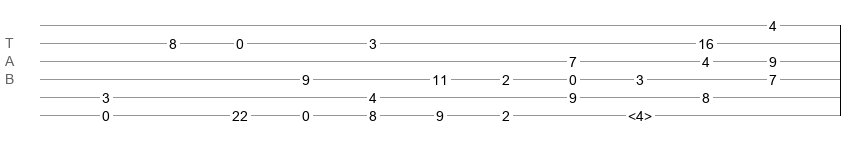0: (102, 108, 110, 118), (236, 36, 244, 46), (302, 108, 310, 118), (569, 72, 577, 82)
11: (432, 72, 448, 82)
16: (698, 36, 714, 46)
2: (502, 72, 510, 82), (502, 108, 510, 118)
22: (232, 108, 248, 118)
3: (102, 90, 110, 100), (369, 36, 377, 46), (636, 72, 644, 82)
4: (369, 90, 377, 100), (702, 54, 710, 64), (769, 18, 777, 28)
7: (569, 54, 577, 64), (769, 72, 777, 82)
8: (169, 36, 177, 46), (369, 108, 377, 118), (702, 90, 710, 100)
9: (302, 72, 310, 82), (436, 108, 444, 118), (569, 90, 577, 100), (769, 54, 777, 64)
harmonic: (628, 108, 652, 118)
